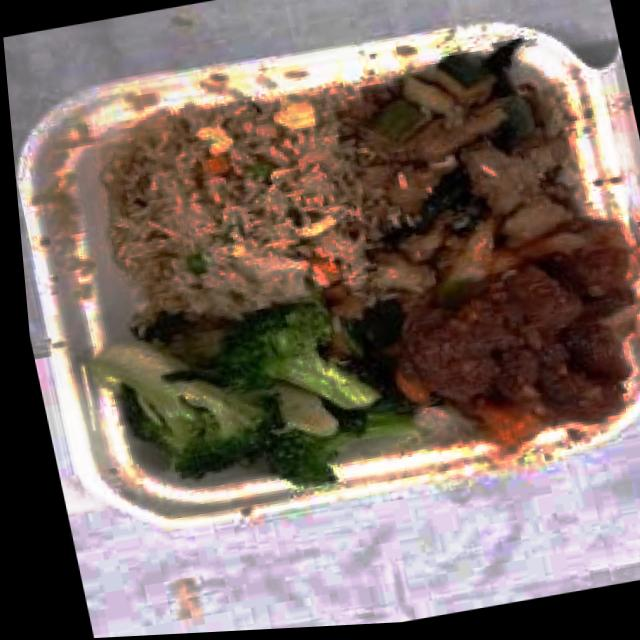Beijing Beef: (374, 210, 640, 451)
Fried Rice: (93, 87, 393, 335)
Kung Pao Chicken: (339, 35, 582, 256)
